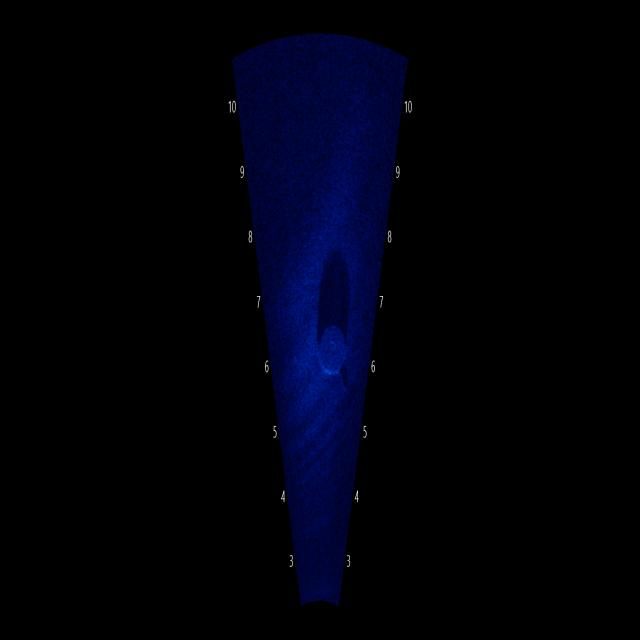circle: (309, 289, 354, 399)
